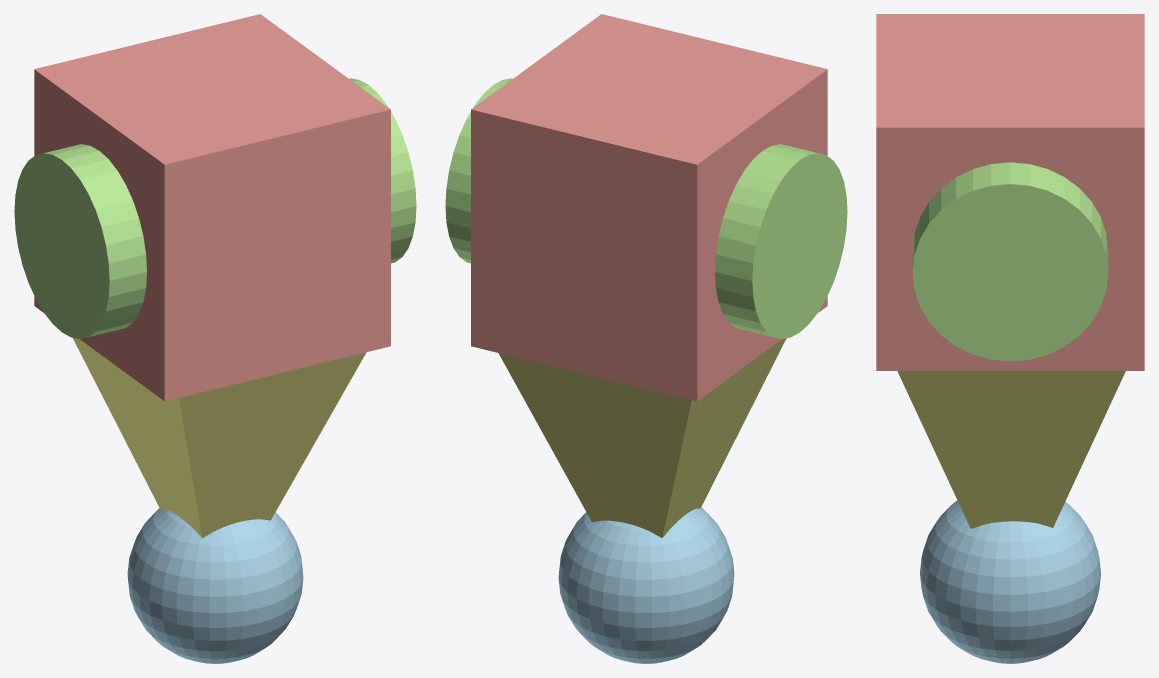
The model's file is brazo-amebaPlayer.glb.
3 renders of one model, left to right at view 1: azimuth 30°, elevation 25°; view 2: azimuth 150°, elevation 25°; view 3: azimuth 270°, elevation 25°, orthographic. The views are drawn at different scales.
Visible parts, largest first — view 1: Cube, Cone, Cylinder, Sphere; view 2: Cube, Cone, Cylinder, Sphere; view 3: Cube, Cylinder, Cone, Sphere.
Part boxes in pixels (x1,y1,x2,y2): Cube: (34, 14, 390, 401); Cone: (73, 338, 366, 538); Cylinder: (14, 78, 416, 338); Sphere: (127, 508, 303, 663); Cube: (471, 14, 827, 401); Cone: (498, 338, 786, 537); Cylinder: (445, 78, 847, 338); Sphere: (558, 507, 734, 663); Cube: (876, 14, 1144, 370); Cylinder: (912, 162, 1108, 361); Cone: (897, 371, 1125, 528); Sphere: (920, 500, 1100, 663).
Size of the model in its own units: 1.48 by 2.62 by 1.09.
